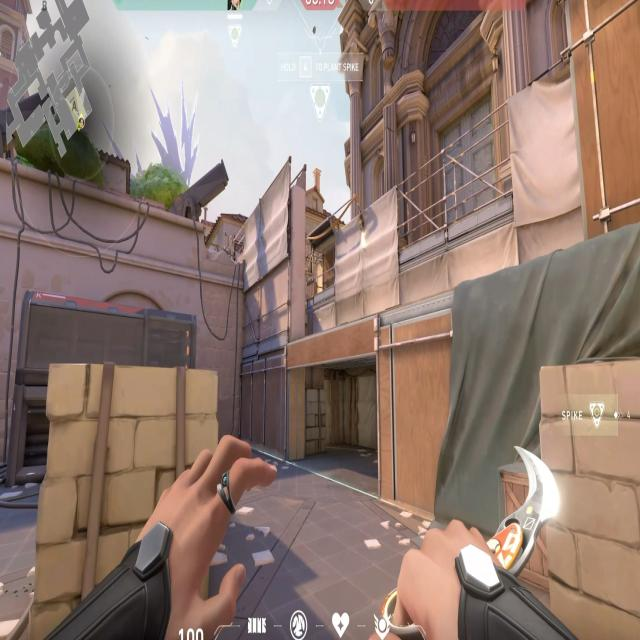A_Heaven_Wall: (237, 184, 308, 356)
A_Hell: (277, 345, 412, 508)
A_Site_Box: (41, 353, 219, 640)
